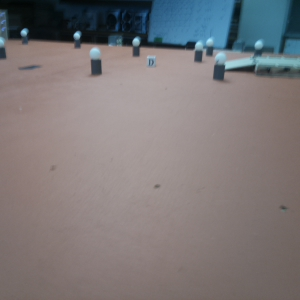blockD: (147, 56, 154, 66)
corner: (1, 11, 6, 43)
obstacle: (88, 48, 104, 74), (213, 53, 225, 81), (193, 42, 203, 61), (132, 36, 139, 55), (1, 38, 7, 60), (206, 38, 214, 54), (254, 40, 262, 56), (73, 30, 80, 48), (21, 29, 27, 43)
side: (257, 63, 300, 77)
slope: (226, 57, 255, 75)
start: (17, 62, 41, 72)
